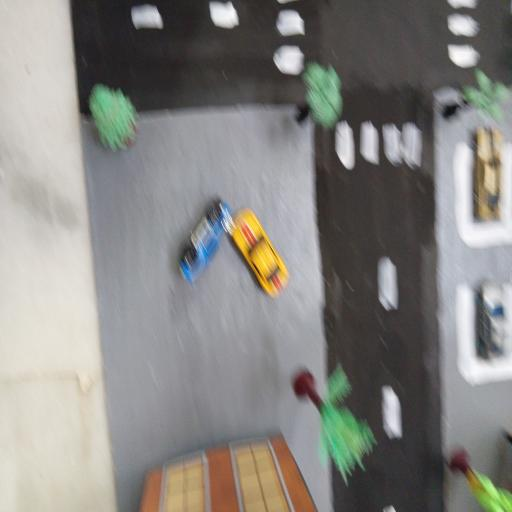car crash: (168, 193, 294, 302)
